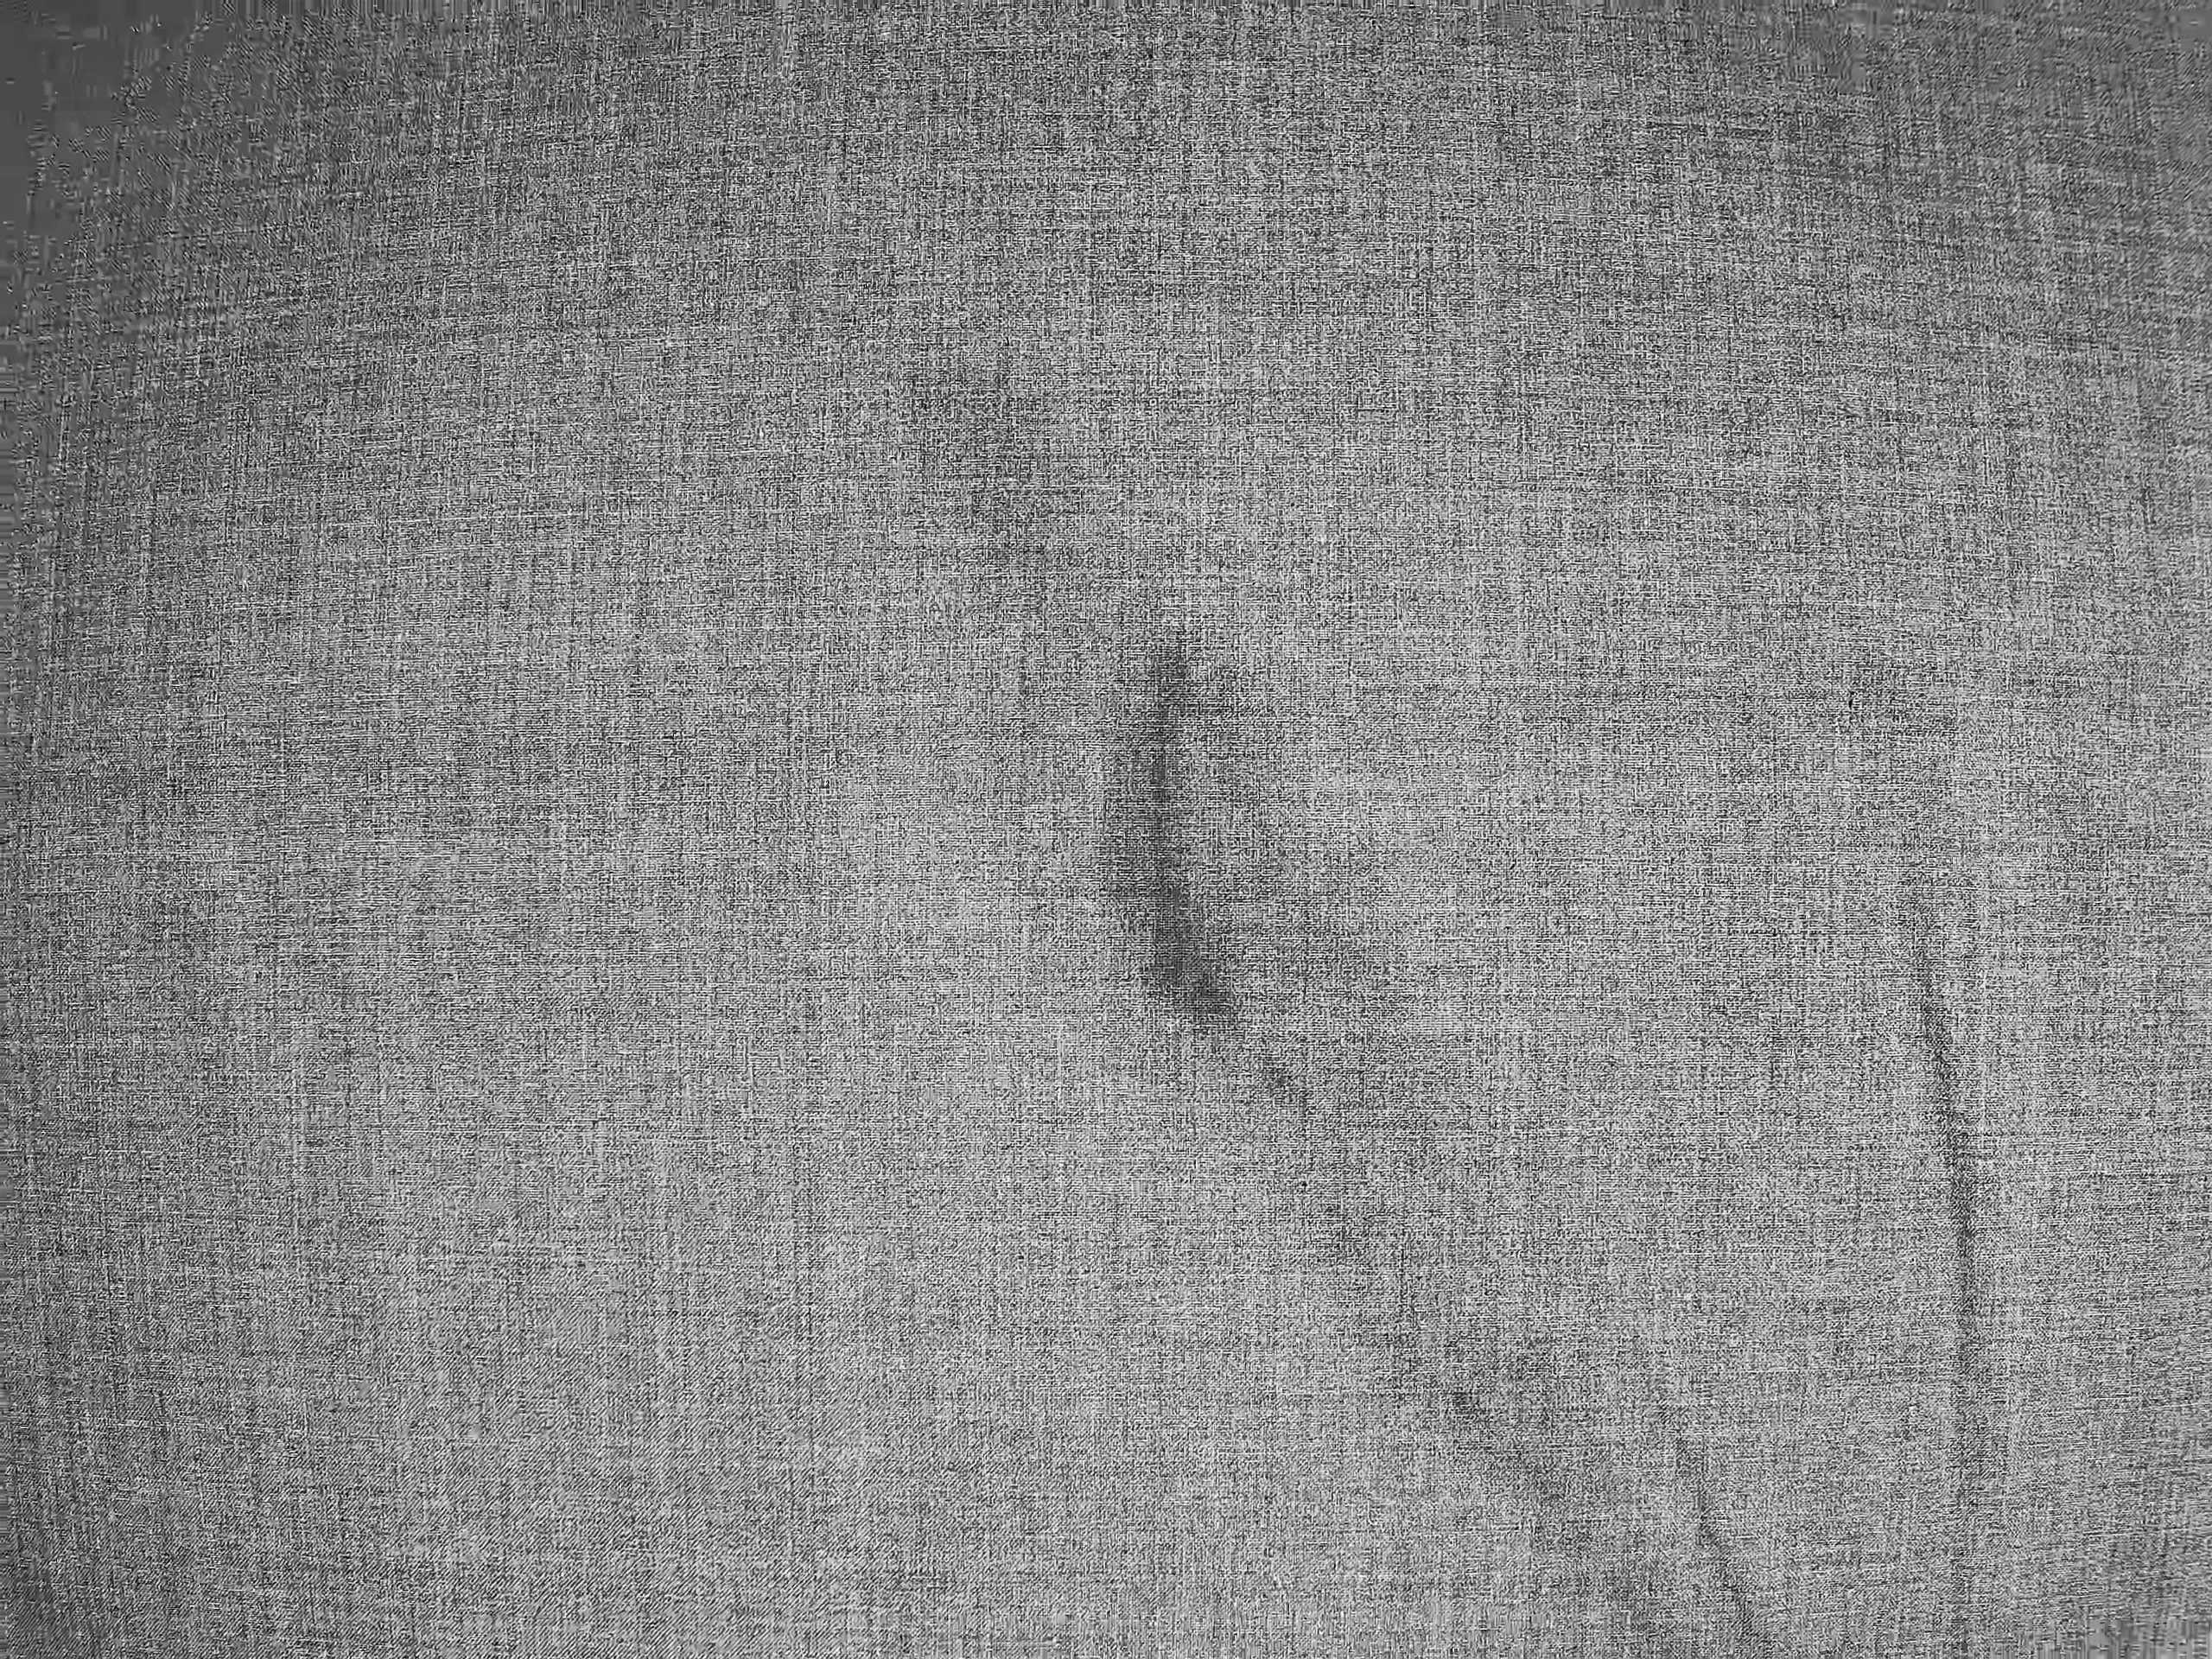stains: (1063, 618, 1385, 1132), (1404, 1296, 1745, 1631)
